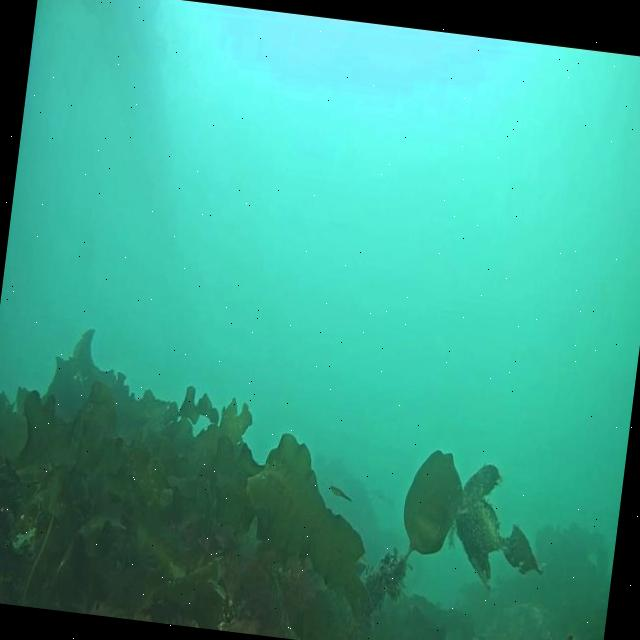fish: (328, 486, 352, 504)
